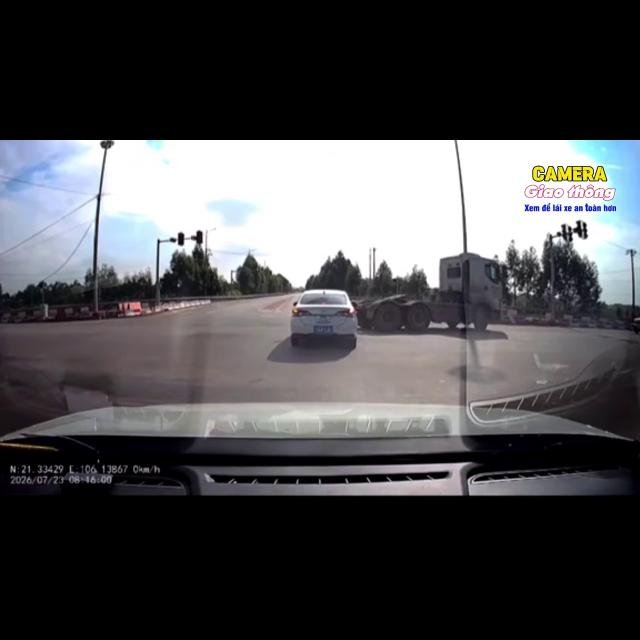car: (290, 290, 357, 348), (631, 317, 639, 333)
truck: (354, 253, 502, 332)
